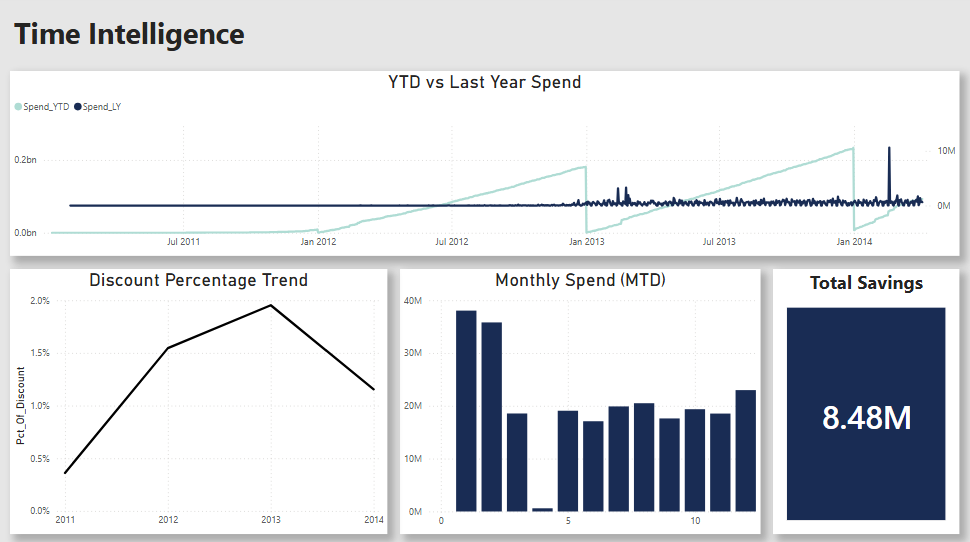

The page's visual inventory and layout, read from the dashboard file:
{"tool":"powerbi","page":{"name":"Time Intelligence","canvas":[1280,720],"ordinal":3},"visuals":[{"type":"lineChart","title":"YTD vs Last Year Spend","fields":{"Category":["Table2.DATE"],"Y":["Invoice Line Item.Spend_YTD"],"Y2":["Invoice Line Item.Spend_LY"]},"box":[16.8,98,1243.3,241.9],"z":0},{"type":"textbox","box":[16.8,18.4,382.8,79.6],"z":1000},{"type":"clusteredColumnChart","title":"Monthly Spend (MTD)","fields":{"Y":["Invoice Line Item.Spend_MTD"],"Category":["Table2.m"]},"box":[527,357.4,472.1,347.4],"z":2000},{"type":"lineChart","title":"Discount Percentage Trend","fields":{"Category":["Table2.Y"],"Y":["Invoice Line Item.Pct_Of_Discount"]},"box":[16.5,357.8,494.1,346.8],"z":3000},{"type":"cardVisual","title":"Total Savings","fields":{"Data":["Invoice Line Item.Total_Discount"]},"box":[1015.7,357.4,244.4,347.4],"z":4000}]}

Visuals, with their boxes in screenshot pixels (x1, y1, x2, y2), scaled from the page's 1280x720 canvas onto the 970x542 screenshot:
"YTD vs Last Year Spend" lineChart: select_region(13, 74, 955, 256)
textbox: select_region(13, 14, 303, 74)
"Monthly Spend (MTD)" clusteredColumnChart: select_region(399, 269, 757, 531)
"Discount Percentage Trend" lineChart: select_region(13, 269, 387, 530)
"Total Savings" cardVisual: select_region(770, 269, 955, 531)
